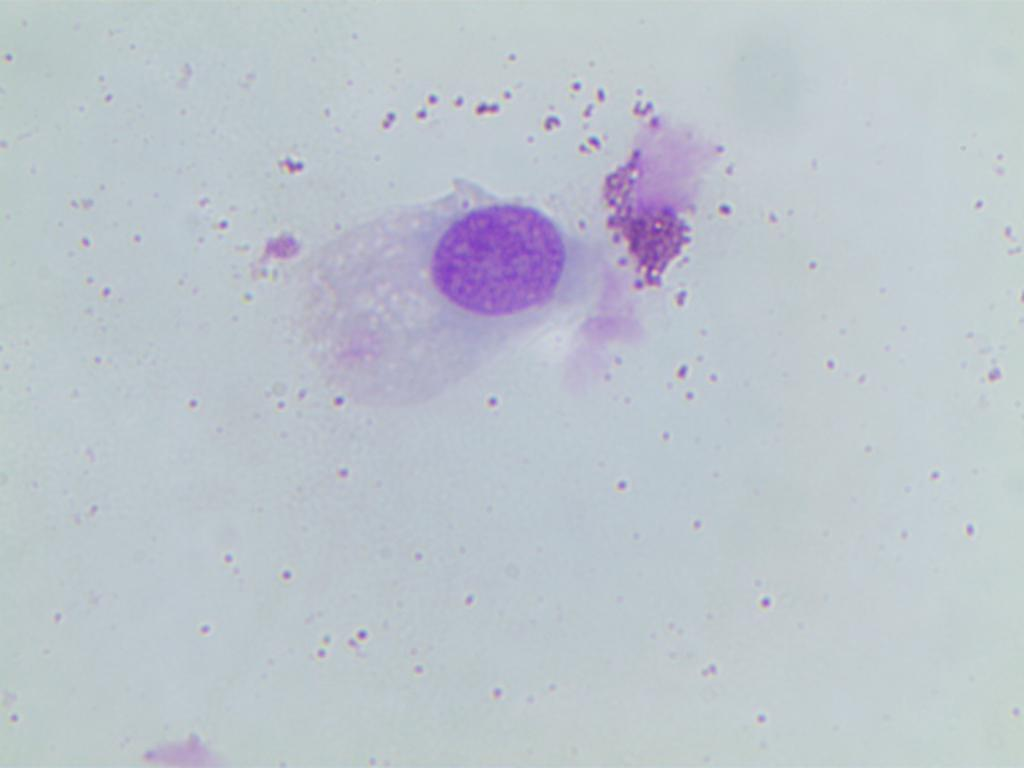epithelial: (391, 157, 616, 366)
